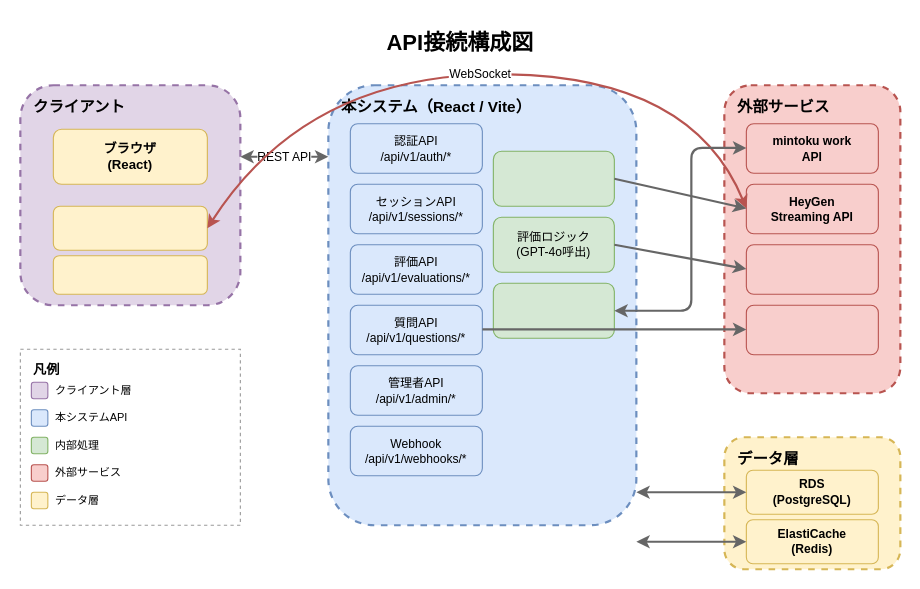
Some shapes in this 920 by 589 pixel diagram are drawn without their labels. Each missing label, with the box of its shape:
Amazon S3 (音声ファイル): (745, 304, 878, 355)
HeyGen Streaming SDK: (52, 205, 207, 250)
HeyGen セッション管理: (492, 150, 614, 206)
mintoku work 同期処理: (492, 282, 614, 338)
OpenAI GPT-4o API: (745, 244, 878, 294)
Web Speech API (STT): (52, 255, 207, 294)
